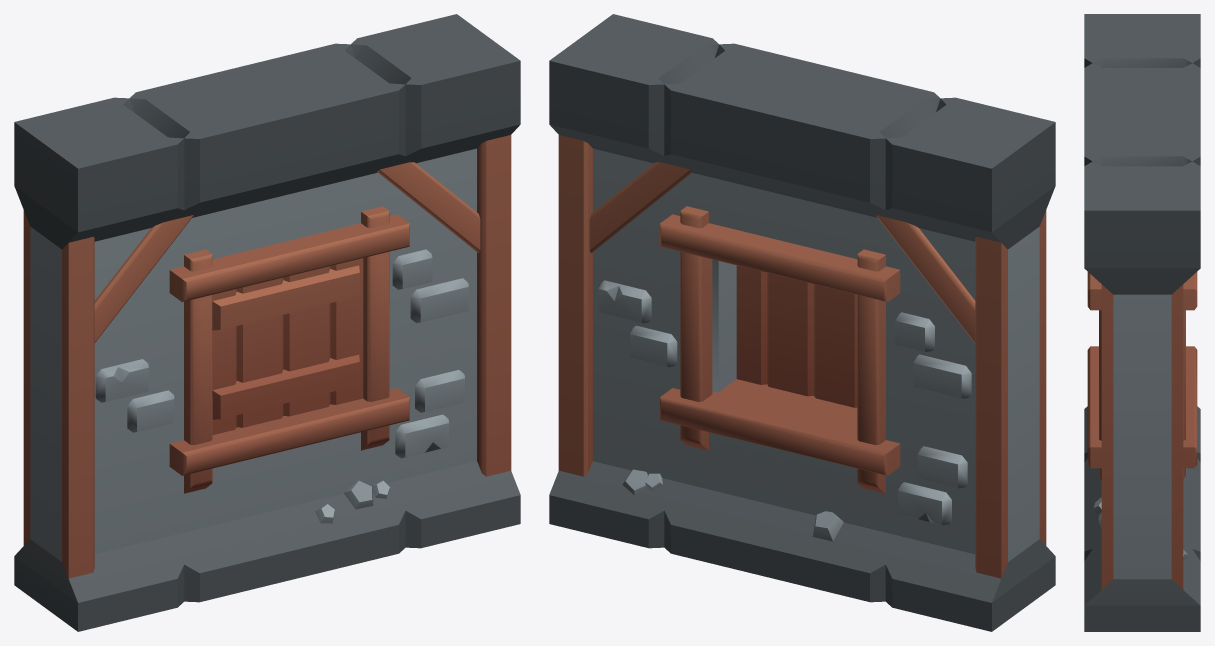
The model's file is wall_window_closed_scaffold.gltf.
The picture shows the model from 3 angles, left to right: view 1: azimuth 30°, elevation 25°; view 2: azimuth 150°, elevation 25°; view 3: azimuth 270°, elevation 25°; orthographic projection. The views are drawn at different scales.
Visible parts, largest first — view 1: wall_window_closed_scaffold; view 2: wall_window_closed_scaffold; view 3: wall_window_closed_scaffold.
Boxes of the visible parts, x1,y1,x2,y2 form: wall_window_closed_scaffold: (14, 14, 520, 631); wall_window_closed_scaffold: (549, 14, 1055, 631); wall_window_closed_scaffold: (1084, 14, 1200, 631).
Bounding box in the file's own units: 4 × 4 × 1.
1 material, 1 textured.
